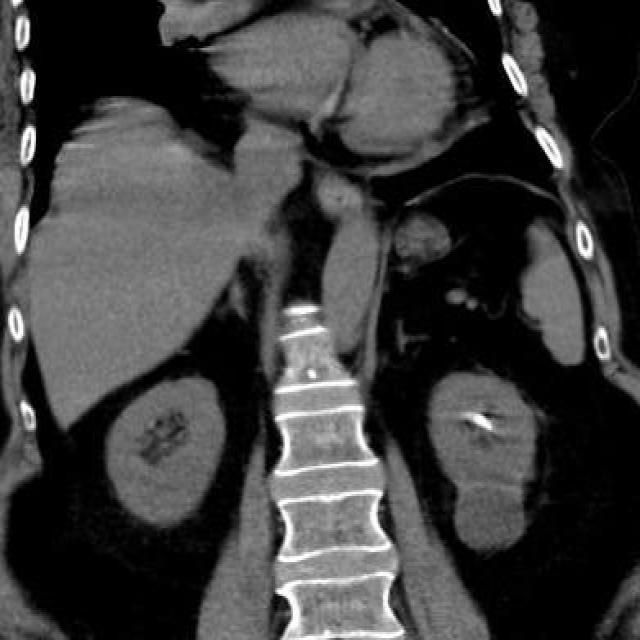Tas_Var: (473, 413, 493, 433)
